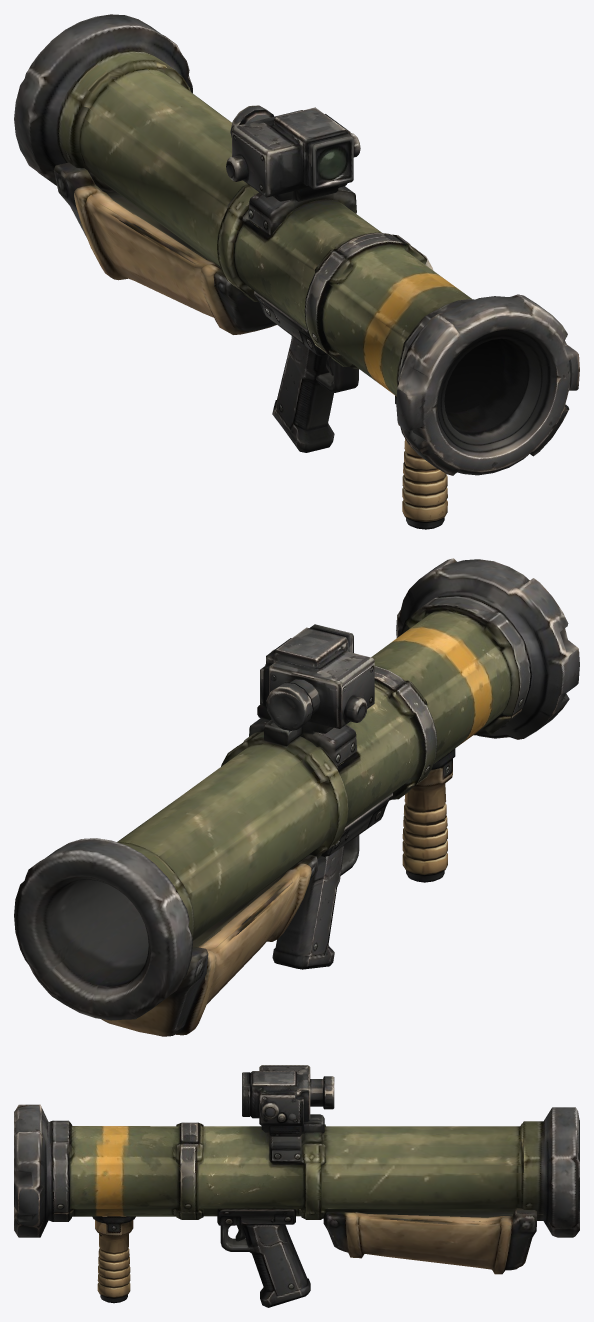
The model's file is rocket_launcher.glb.
3 renders of one model, top to bottom at view 1: azimuth 30°, elevation 25°; view 2: azimuth 150°, elevation 25°; view 3: azimuth 270°, elevation 25°, orthographic. The views are drawn at different scales.
Visible parts, largest first — view 1: tripo_node_36816b32-8a12-44b9-9539-eb1dcab2aede; view 2: tripo_node_36816b32-8a12-44b9-9539-eb1dcab2aede; view 3: tripo_node_36816b32-8a12-44b9-9539-eb1dcab2aede.
Boxes of the visible parts, x1,y1,x2,y2 form: tripo_node_36816b32-8a12-44b9-9539-eb1dcab2aede: (14,14,579,529); tripo_node_36816b32-8a12-44b9-9539-eb1dcab2aede: (14,558,579,1036); tripo_node_36816b32-8a12-44b9-9539-eb1dcab2aede: (14,1065,579,1307).
Bounding box in the file's own units: 0.2466 × 0.4399 × 0.9995.
1 material, 1 textured.
